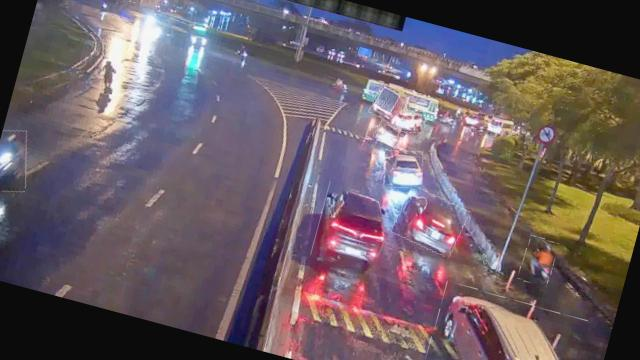Bike: (0, 125, 36, 195), (518, 236, 560, 288), (96, 58, 120, 96)
Car: (417, 281, 591, 360), (310, 180, 394, 271), (390, 187, 470, 258), (378, 144, 428, 194), (391, 106, 428, 137), (372, 116, 407, 148), (460, 109, 486, 130), (434, 107, 458, 126)
Truck: (368, 83, 406, 124)
